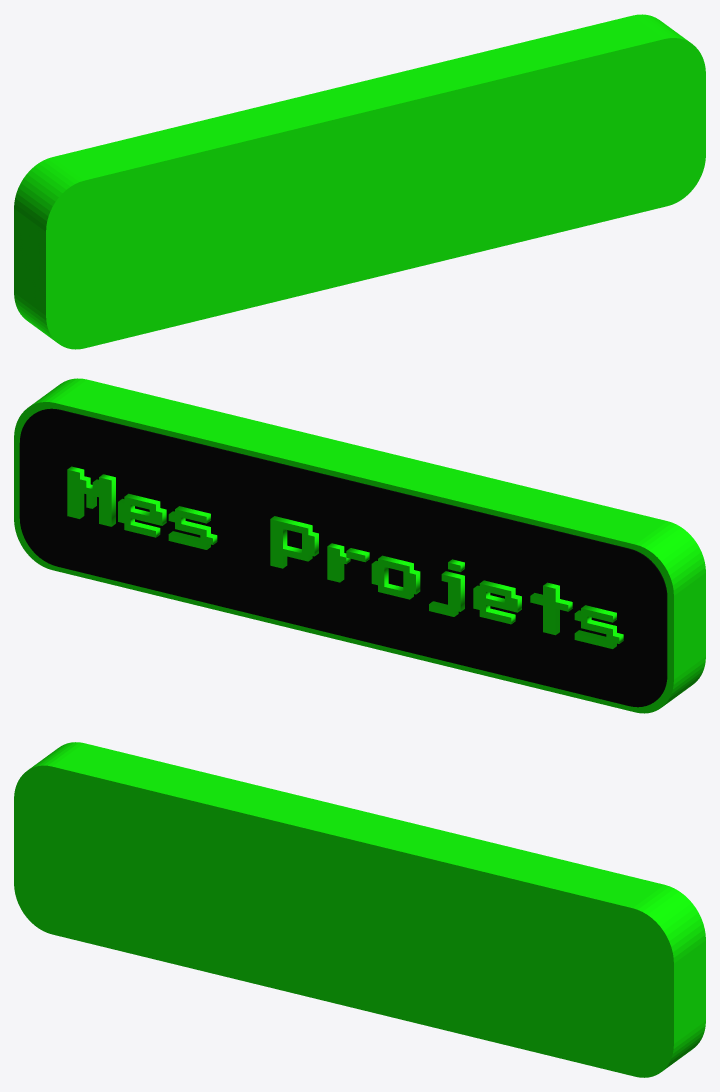
File: btn-projets.glb
The picture shows the model from 3 angles, top to bottom: view 1: azimuth 30°, elevation 25°; view 2: azimuth 150°, elevation 25°; view 3: azimuth 330°, elevation 25°; orthographic projection.
Visible parts, largest first — view 1: Cube.007; view 2: Cube.006, Cube.007, Text.003; view 3: Cube.007.
Boxes of the visible parts, left/top/right/bottom form: Cube.007: left=14, top=14, right=705, bottom=349; Cube.006: left=19, top=408, right=667, bottom=707; Cube.007: left=14, top=378, right=705, bottom=713; Text.003: left=67, top=466, right=623, bottom=648; Cube.007: left=14, top=742, right=705, bottom=1077.
Bounding box in the file's own units: 8.8 × 2.14 × 0.8568.
